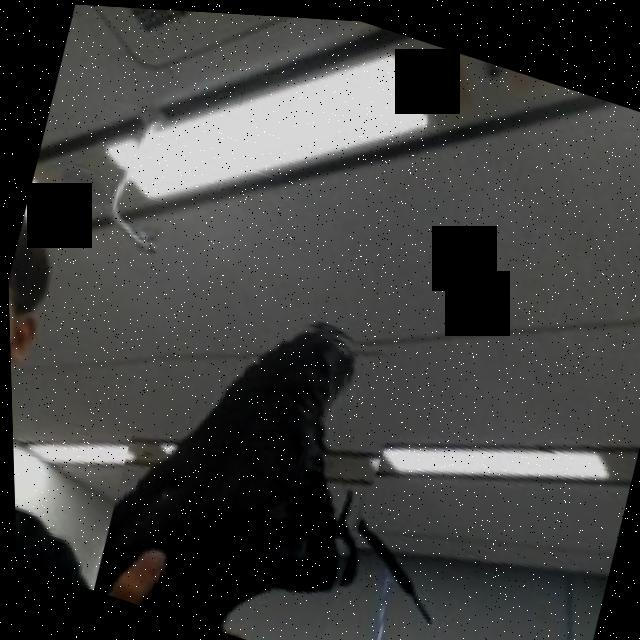shoe: (82, 266, 420, 640)
